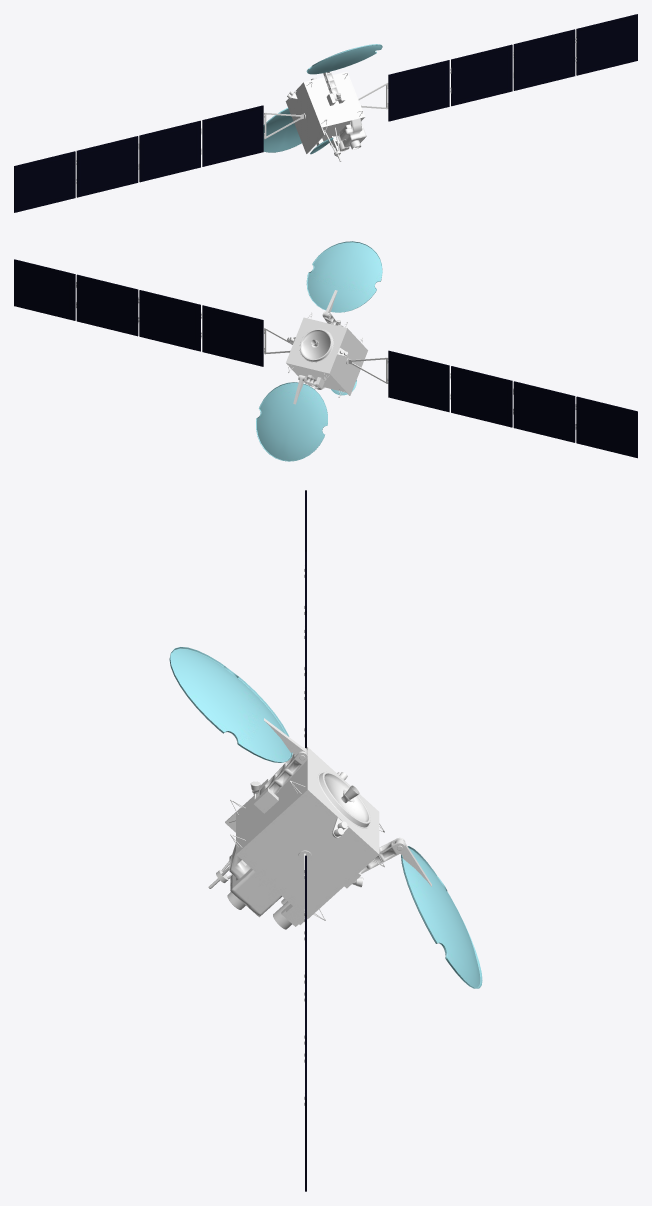
File: weixing.gltf
3 renders of one model, top to bottom at view 1: azimuth 30°, elevation 25°; view 2: azimuth 150°, elevation 25°; view 3: azimuth 270°, elevation 25°, orthographic. The views are drawn at different scales.
Visible parts, largest first — view 1: AM84_026_04_1.1; view 2: AM84_026_04_1.1; view 3: AM84_026_04_1.1.
Boxes of the visible parts, x1,y1,x2,y2 form: AM84_026_04_1.1: [14, 14, 637, 212]; AM84_026_04_1.1: [14, 241, 637, 461]; AM84_026_04_1.1: [169, 490, 482, 1191].
Size of the model in its own units: 1991 by 493 by 433.
1 material, 1 textured.
